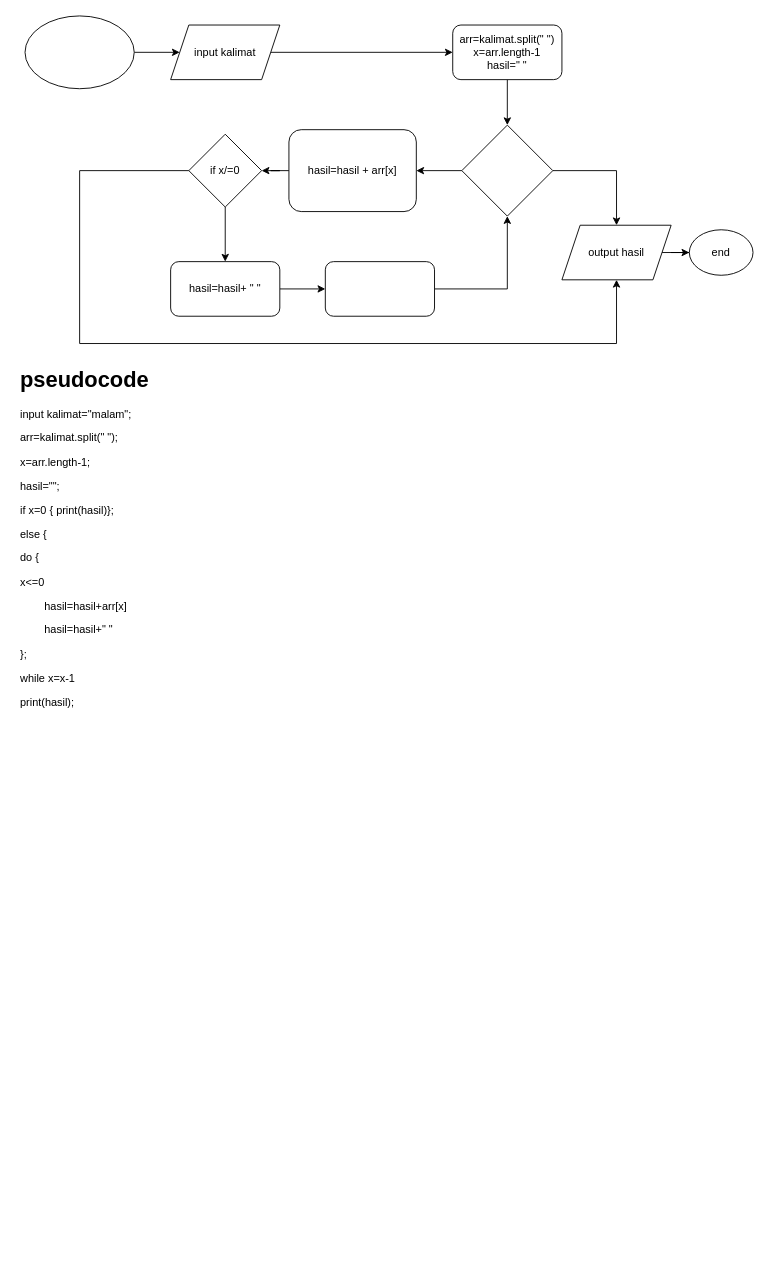
Some shapes in this 769 by 1279 pixel diagram are drawn without their labels. Each missing label, with the centre of its shape:
start: (79,52)
x<=0: (507,170)
x=x-1: (379,288)
